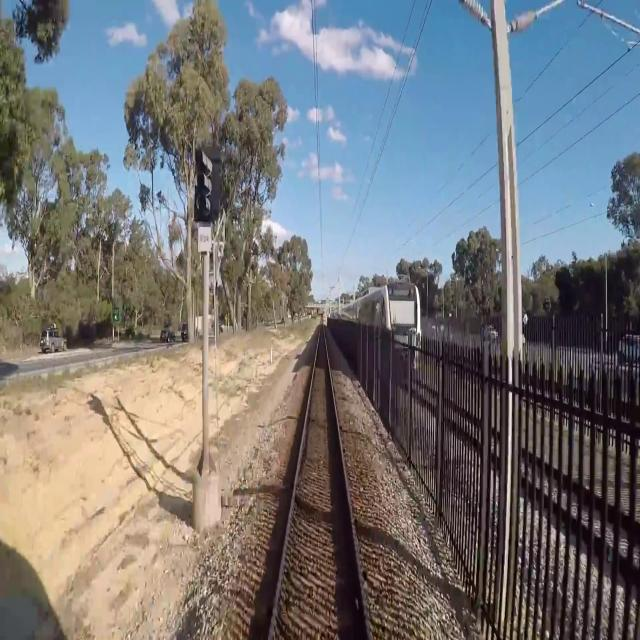rail-track: (272, 326, 366, 639)
